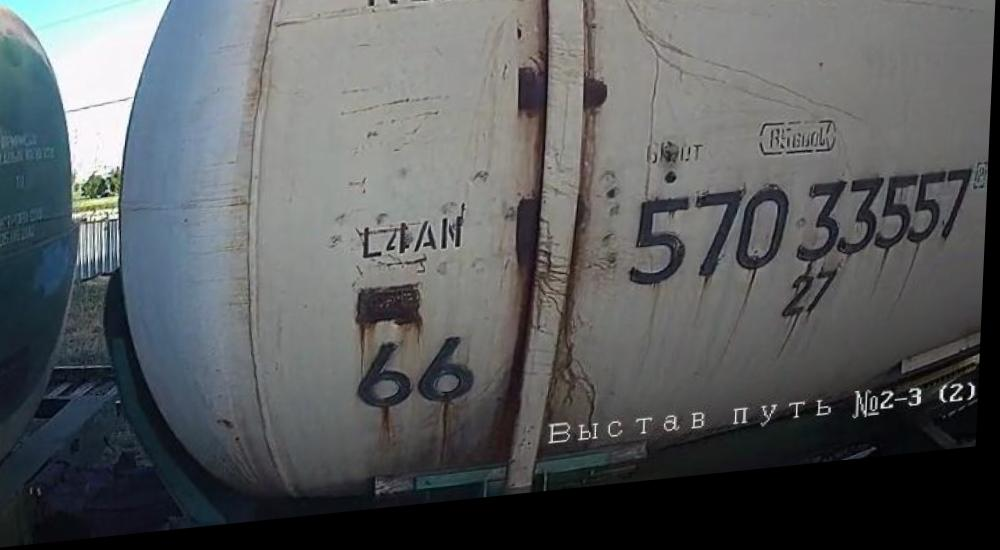Wagon-number: (628, 181, 981, 305)
